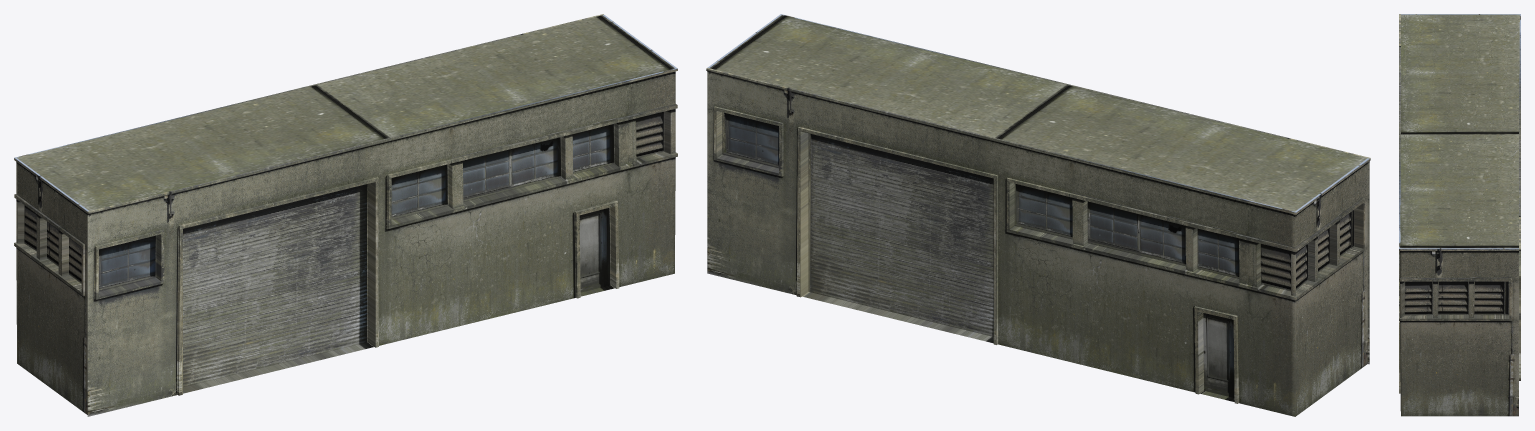
Rendered from industrial_building4.FBX.
3 views of the same model, side by side, from view 1: azimuth 30°, elevation 25°; view 2: azimuth 150°, elevation 25°; view 3: azimuth 270°, elevation 25° (orthographic). The views are drawn at different scales.
Parts seen in each view (by area): view 1: Plane01; view 2: Plane01; view 3: Plane01.
Boxes of the visible parts, x1,y1,x2,y2 form: Plane01: (14, 14, 677, 416); Plane01: (706, 14, 1370, 416); Plane01: (1399, 14, 1520, 416).
Bounding box in the file's own units: 3214 × 1071 × 704.
1 material, 1 textured.
